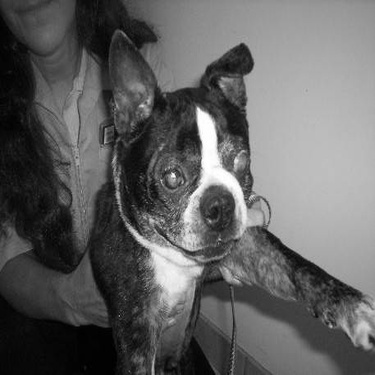dog: (80, 32, 370, 371)
